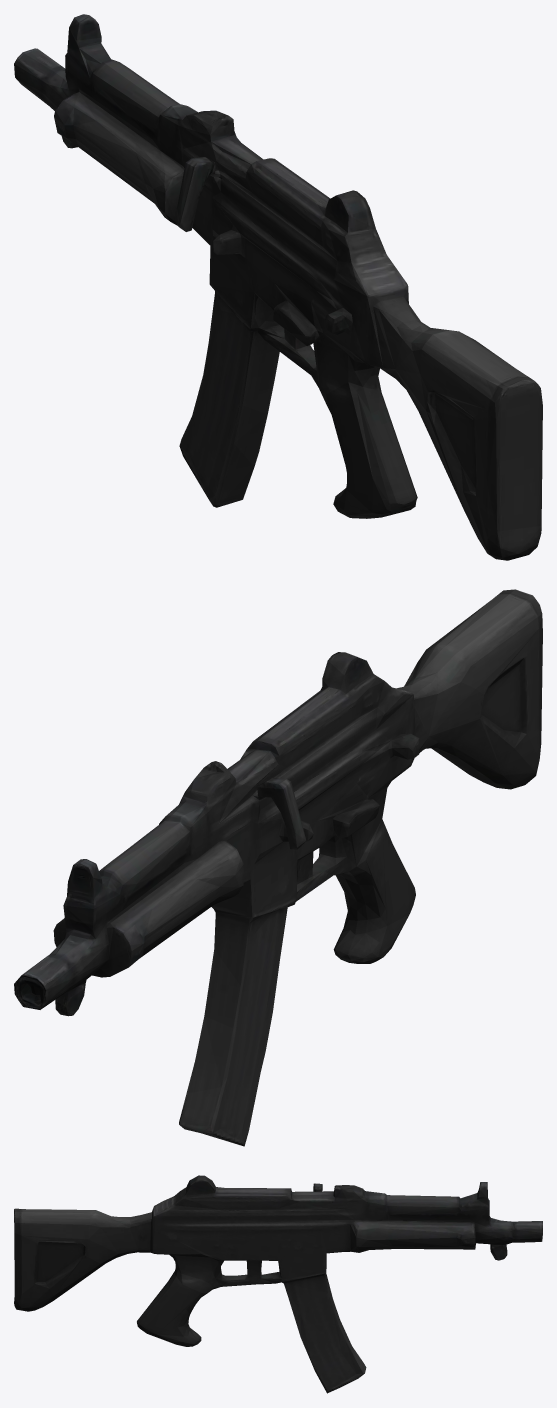
3 renders of one model, top to bottom at view 1: azimuth 30°, elevation 25°; view 2: azimuth 150°, elevation 25°; view 3: azimuth 270°, elevation 25°, orthographic. The views are drawn at different scales.
Visible parts, largest first — view 1: geometry_0.022; view 2: geometry_0.022; view 3: geometry_0.022.
Boxes of the visible parts, <box> form: geometry_0.022: <box>14,14,542,560</box>; geometry_0.022: <box>14,589,542,1146</box>; geometry_0.022: <box>14,1175,542,1393</box>.
Size of the model in its own units: 0.0542 by 0.2004 by 0.4482.
Materials: 1 (1 with a texture image).
